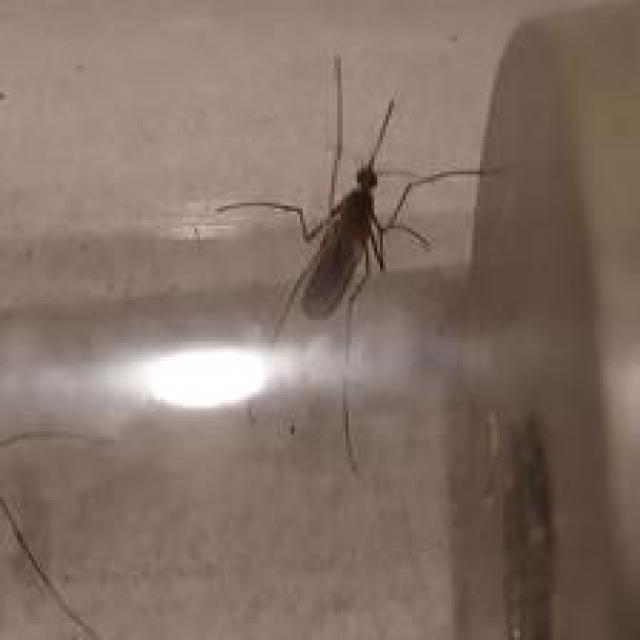Culex: (213, 53, 501, 476)
